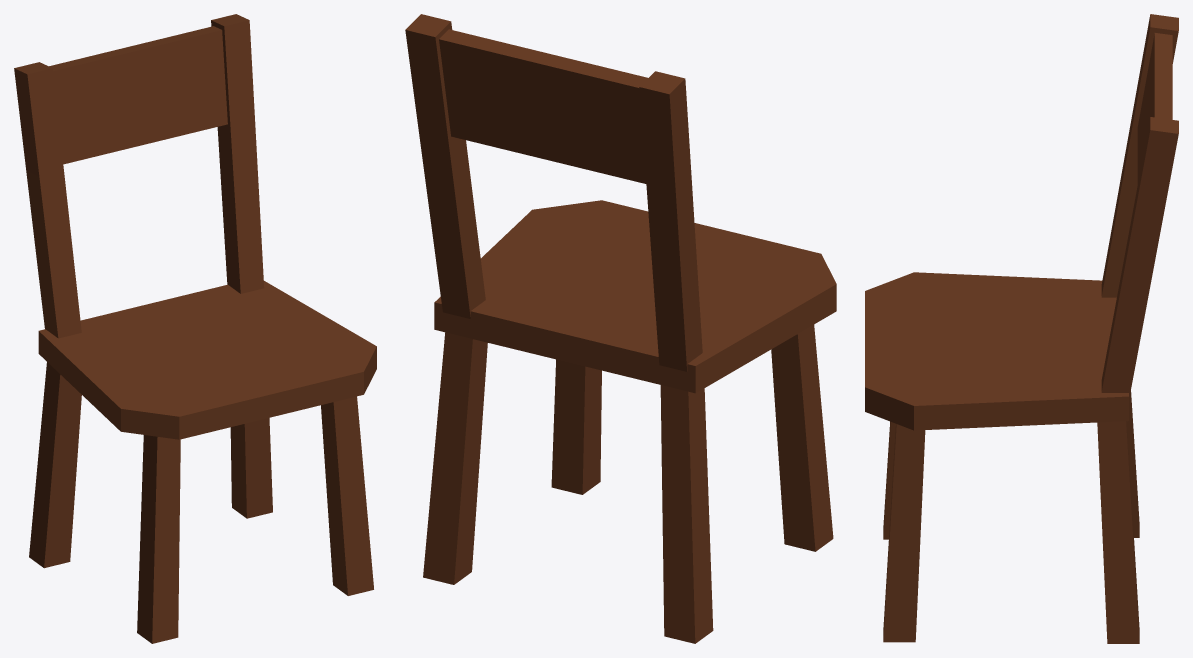
The model's file is WoodenChair.fbx.
3 views of the same model, side by side, from view 1: azimuth 30°, elevation 25°; view 2: azimuth 150°, elevation 25°; view 3: azimuth 270°, elevation 25° (orthographic). The views are drawn at different scales.
Parts seen in each view (by area): view 1: WoodenChair; view 2: WoodenChair; view 3: WoodenChair.
Boxes of the visible parts, x1=… form: WoodenChair: x1=14, y1=14, x2=376, y2=643; WoodenChair: x1=405, y1=14, x2=836, y2=643; WoodenChair: x1=865, y1=14, x2=1178, y2=643.
Bounding box in the file's own units: 134 × 239 × 133.
